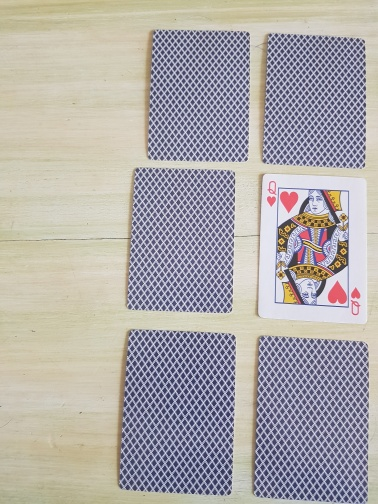queen: (257, 175, 369, 325)
